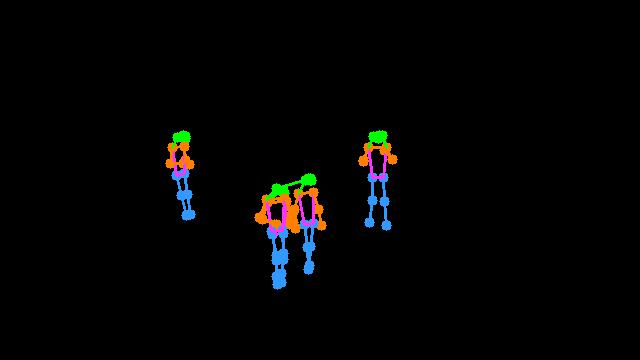normal: (247, 154, 335, 303)
